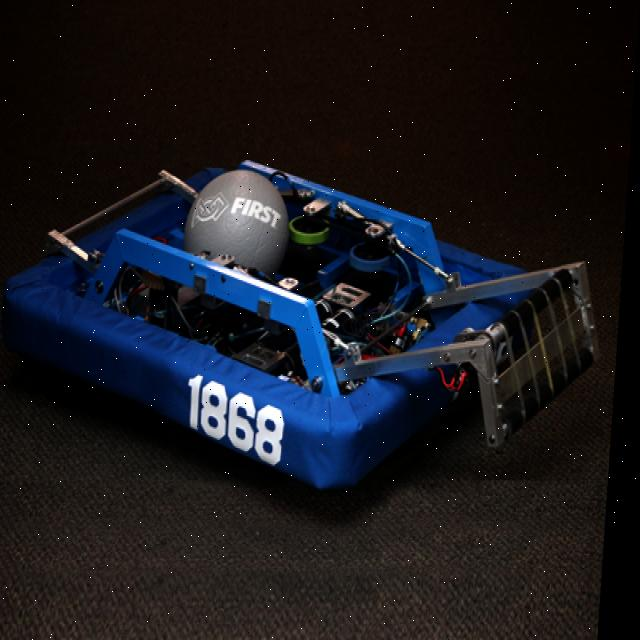robot: (0, 130, 619, 487)
